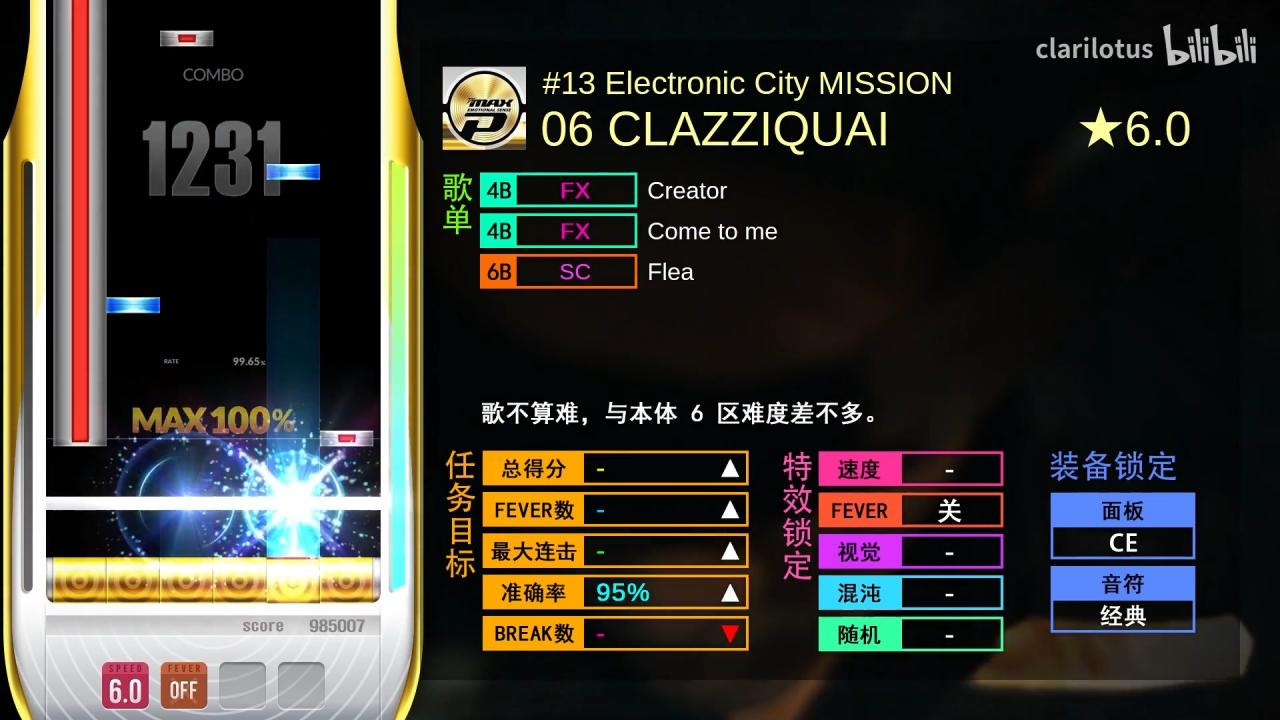hold-start: (53, 430, 107, 447)
note: (266, 163, 321, 180), (105, 297, 161, 313), (160, 31, 213, 47), (320, 430, 372, 446)
